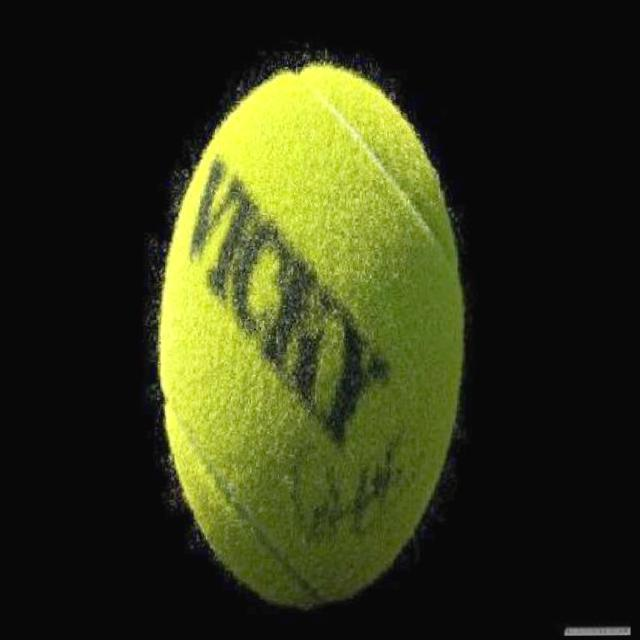-: (140, 50, 478, 632)
